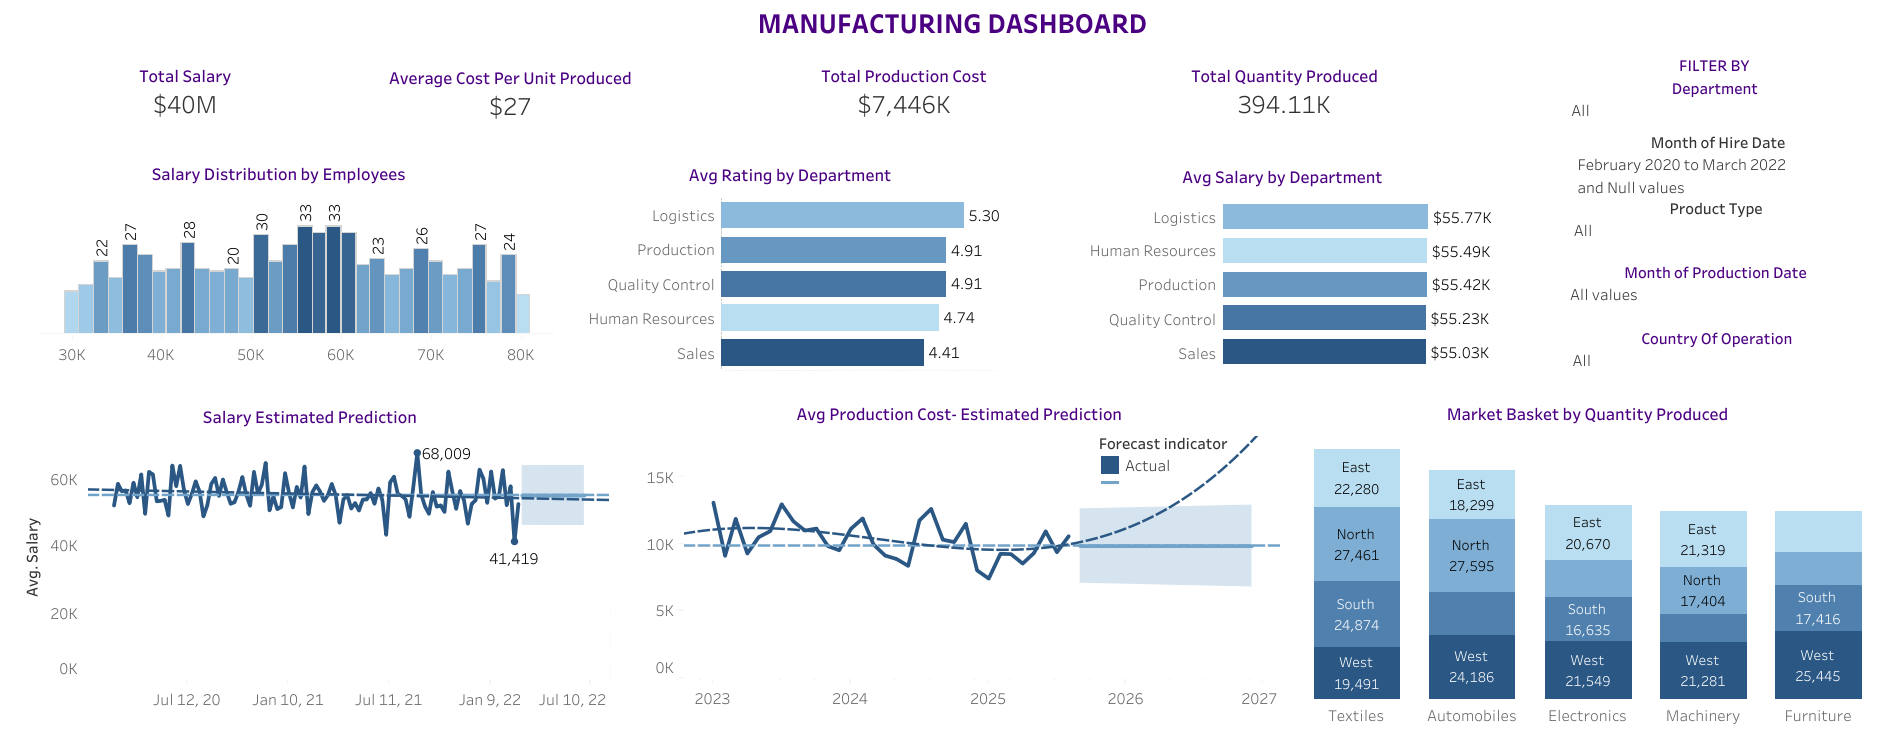

The page's visual inventory and layout, read from the dashboard file:
{"tool":"tableau","page":{"name":"Manufacturing Dashboard","canvas":[1000,1000],"units":"permille","ordinal":0},"visuals":[{"type":"worksheet","title":"Total Quantity Produced","mark":"Automatic","box":[629.7,59.6,192,140.2]},{"type":"worksheet","title":"Salary KPI","mark":"Automatic","box":[65.2,60.4,100.8,131.7]},{"type":"worksheet","title":"Total Production Cost","mark":"Automatic","box":[427.9,60.4,162.3,149.3]},{"type":"worksheet","title":"Cost Per Unit","mark":"Automatic","box":[198.6,62.6,173.2,140.5]},{"type":"filter","title":"Avg Salary by Deparment","param":"[federated.0c11z7q1076qsk1ekkio71rvhc4t].[none:Department:nk]","box":[834,71.4,155.1,107.6]},{"type":"filter","title":"18. Market Basket Analysis","param":"[federated.0c11z7q1076qsk1ekkio71rvhc4t].[tmn:HireDate:qk]","box":[836.5,175.6,153.3,82.3]},{"type":"worksheet","title":"5. Bin Creation for Salary Analysis","mark":"Automatic","rows":["EmployeeID"],"cols":["Salary I (bin)"],"box":[1.8,210.8,292.9,296.4]},{"type":"worksheet","title":"9.Performance Rating Analysis","mark":"Automatic","rows":["Department"],"cols":["PerformanceRating_I"],"box":[298.2,211.9,243.1,292]},{"type":"worksheet","title":"Avg Salary by Deparment","mark":"Automatic","rows":["Department"],"cols":["Salary_I"],"box":[561.8,213,239.6,290.9]},{"type":"filter","title":"18. Market Basket Analysis","param":"[federated.0c11z7q1076qsk1ekkio71rvhc4t].[none:ProductType:nk]","box":[835.2,266.7,153.9,80.1]},{"type":"filter","title":"7.Trend Analysis of Production Cost","param":"[federated.0c11z7q1076qsk1ekkio71rvhc4t].[tmn:ProductionDate:qk]","box":[832.8,353.5,158.7,85.6]},{"type":"filter","title":"Avg Salary by Deparment","param":"[federated.0c11z7q1076qsk1ekkio71rvhc4t].[none:CountryOfOperation:nk]","box":[834.6,444.6,156.3,80.1]},{"type":"worksheet","title":"7.Trend Analysis of Production Cost","mark":"Automatic","rows":["ProductionCost_I"],"cols":["ProductionDate"],"box":[339.8,537.9,340.4,440.2]},{"type":"worksheet","title":"18. Market Basket Analysis","mark":"Automatic","rows":["QuantityProduced_I"],"cols":["ProductType"],"box":[690.1,538.2,307.5,454.8]},{"type":"worksheet","title":"16.Future Salary Trend","mark":"Automatic","rows":["Salary_I"],"cols":["HireDate"],"box":[6,541.7,317.6,438.3]},{"type":"legend","title":"7.Trend Analysis of Production Cost","param":"[federated.0c11z7q1076qsk1ekkio71rvhc4t].[none:Forecast Indicator:nk]","box":[583.4,586.4,84.6,75.2]}]}

Visuals, with their boxes on the dashboard's canvas, which has no fixed pixel size, in thousandths of its width and height (x1, y1, x2, y2). These are canvas units, not pixel positions in the 1880x730 screenshot, which may show the page scaled, cropped or inside an application window:
"Total Quantity Produced" worksheet: [630, 60, 822, 200]
"Salary KPI" worksheet: [65, 60, 166, 192]
"Total Production Cost" worksheet: [428, 60, 590, 210]
"Cost Per Unit" worksheet: [199, 63, 372, 203]
"Avg Salary by Deparment" filter: [834, 71, 989, 179]
"18. Market Basket Analysis" filter: [836, 176, 990, 258]
"5. Bin Creation for Salary Analysis" worksheet: [2, 211, 295, 507]
"9.Performance Rating Analysis" worksheet: [298, 212, 541, 504]
"Avg Salary by Deparment" worksheet: [562, 213, 801, 504]
"18. Market Basket Analysis" filter: [835, 267, 989, 347]
"7.Trend Analysis of Production Cost" filter: [833, 354, 992, 439]
"Avg Salary by Deparment" filter: [835, 445, 991, 525]
"7.Trend Analysis of Production Cost" worksheet: [340, 538, 680, 978]
"18. Market Basket Analysis" worksheet: [690, 538, 998, 993]
"16.Future Salary Trend" worksheet: [6, 542, 324, 980]
"7.Trend Analysis of Production Cost" legend: [583, 586, 668, 662]
